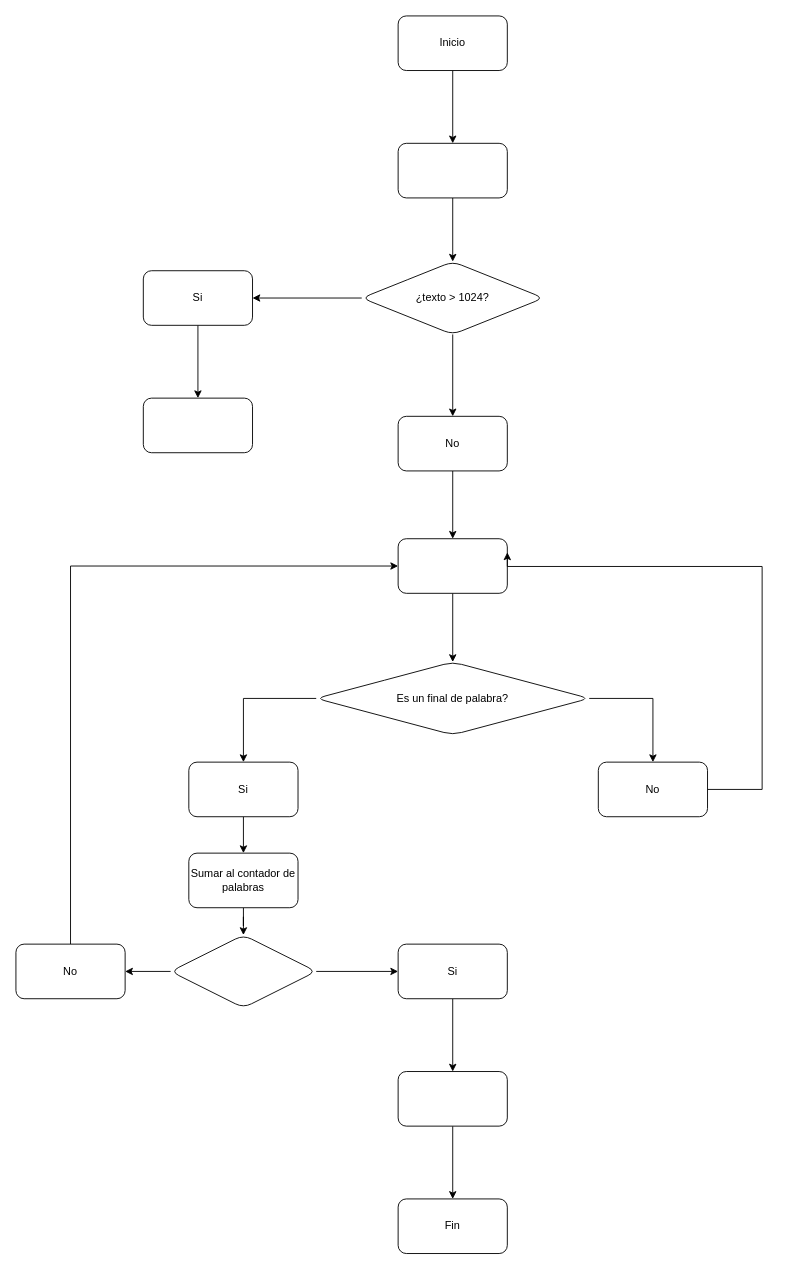
Some shapes in this 785 by 1269 pixel diagram are drawn without their labels. Each missing label, with the box of its shape:
Fin del Archivo?: (170, 934, 316, 1008)
Leer Archivo: (397, 142, 507, 198)
Leer Caracteres: (397, 538, 507, 593)
Mostrar Cantidad Palabras: (397, 1071, 507, 1126)
Mostrar error y terminar: (142, 397, 253, 453)
